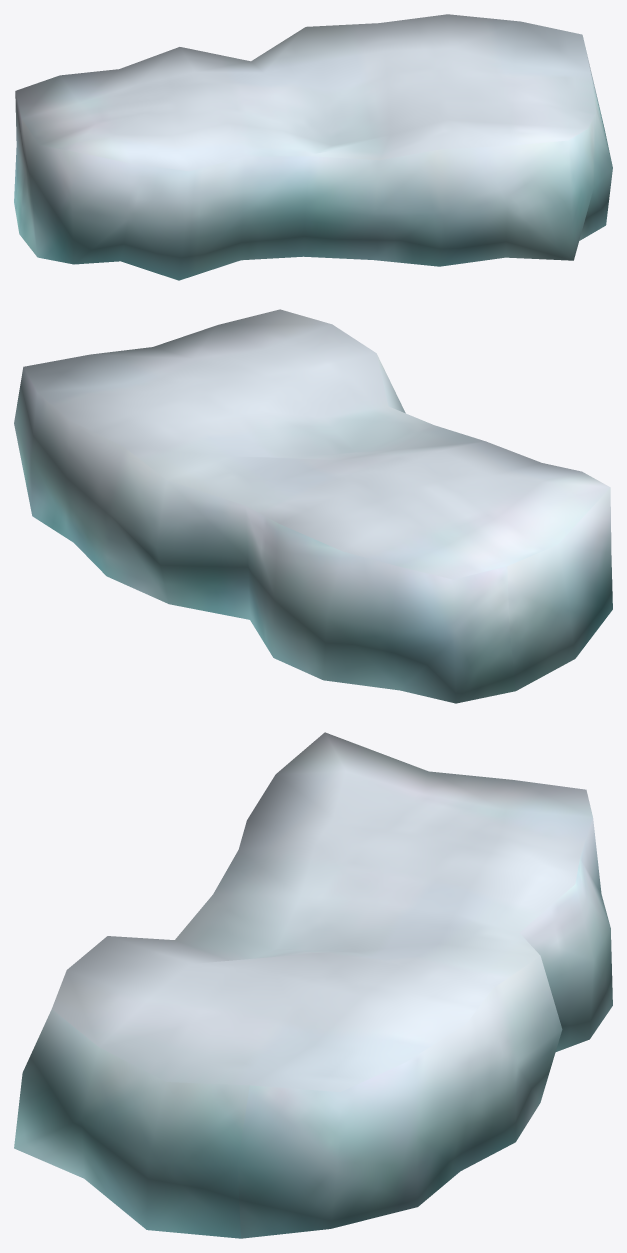
Rendered from Ice_Roof_Slab.glb.
3 views of the same model, one above another, from view 1: azimuth 30°, elevation 25°; view 2: azimuth 150°, elevation 25°; view 3: azimuth 270°, elevation 25° (orthographic). The views are drawn at different scales.
Parts seen in each view (by area): view 1: Ice roof slab; view 2: Ice roof slab; view 3: Ice roof slab.
Part boxes in pixels (<box>): Ice roof slab: <box>14,14,612,280</box>; Ice roof slab: <box>14,309,612,703</box>; Ice roof slab: <box>14,732,612,1238</box>.
Size of the model in its own units: 4.68 by 1.19 by 3.42.
1 material, 1 textured.
